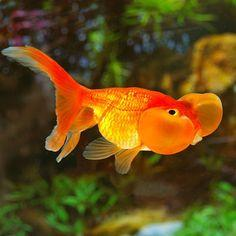goldfish: (28, 56, 228, 184)
